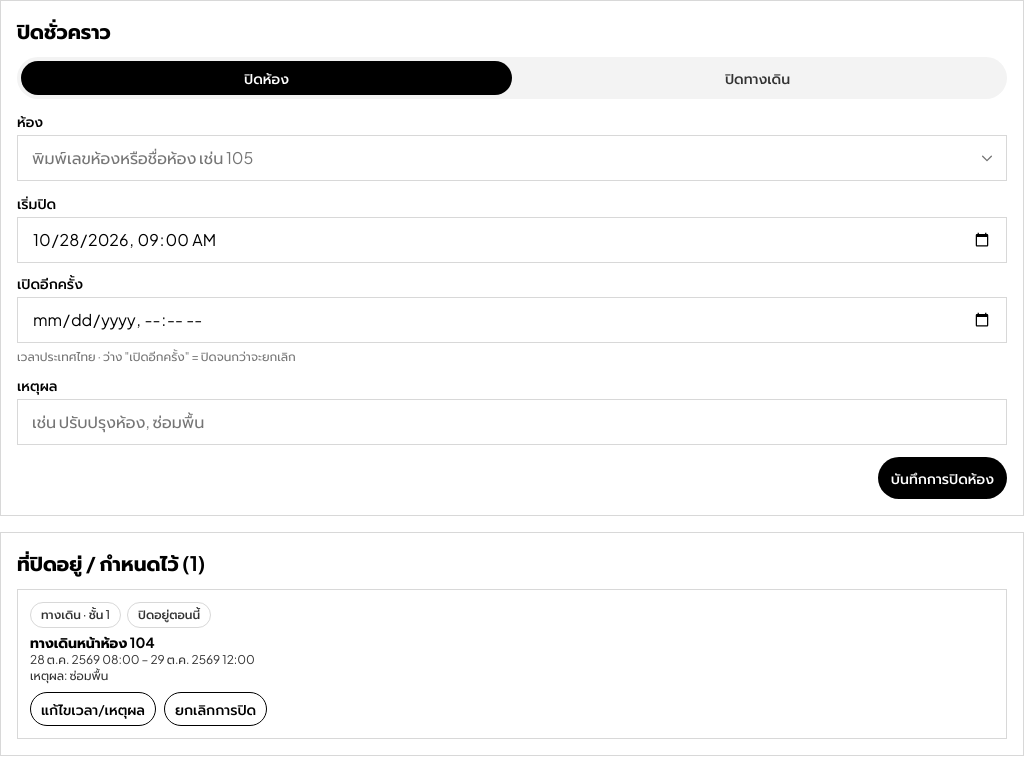
Test case: ClosurePanel › edits the window and reason of a listed closure in place
The image size is (1024, 768).
Click the button "แก้ไขเวลา/เหตุผล" at (93, 709), box [30,692,156,726]
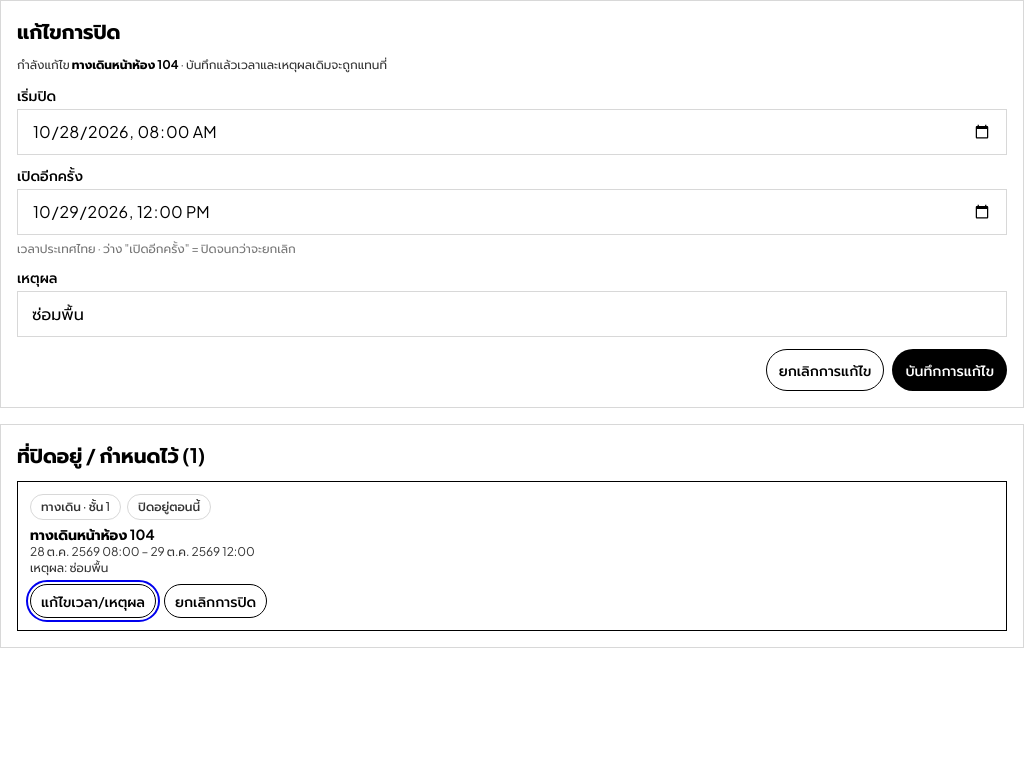
Result: the heading "แก้ไขการปิด" is shown at [17,18,120,43]
Result: the field labelled "เริ่มปิด" holds "2026-10-28T08:00" at [17,109,1007,155]
Result: the field labelled "เปิดอีกครั้ง" holds "2026-10-29T12:00"
Replace the text in the field labelled "เปิดอีกครั้ง" with "2026-10-30T18:00" at (512, 212), box [17,189,1007,235]
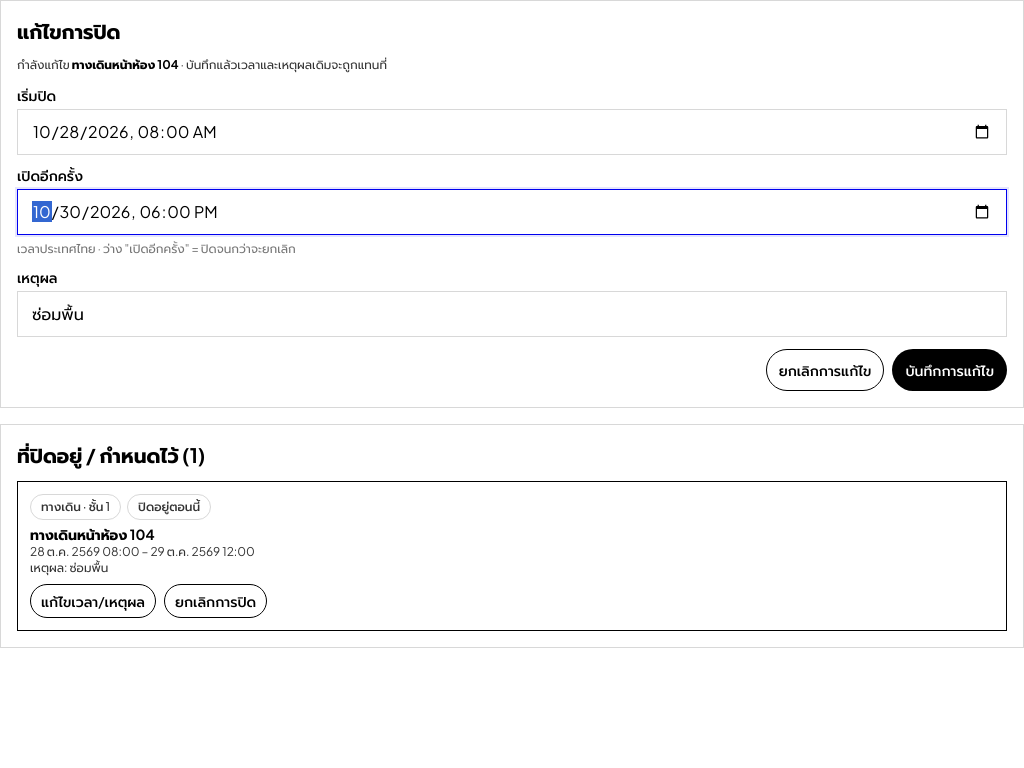
Replace the text in the field labelled "เหตุผล" with "ซ่อมพื้นเพิ่ม" at (512, 314), box [17,291,1007,337]
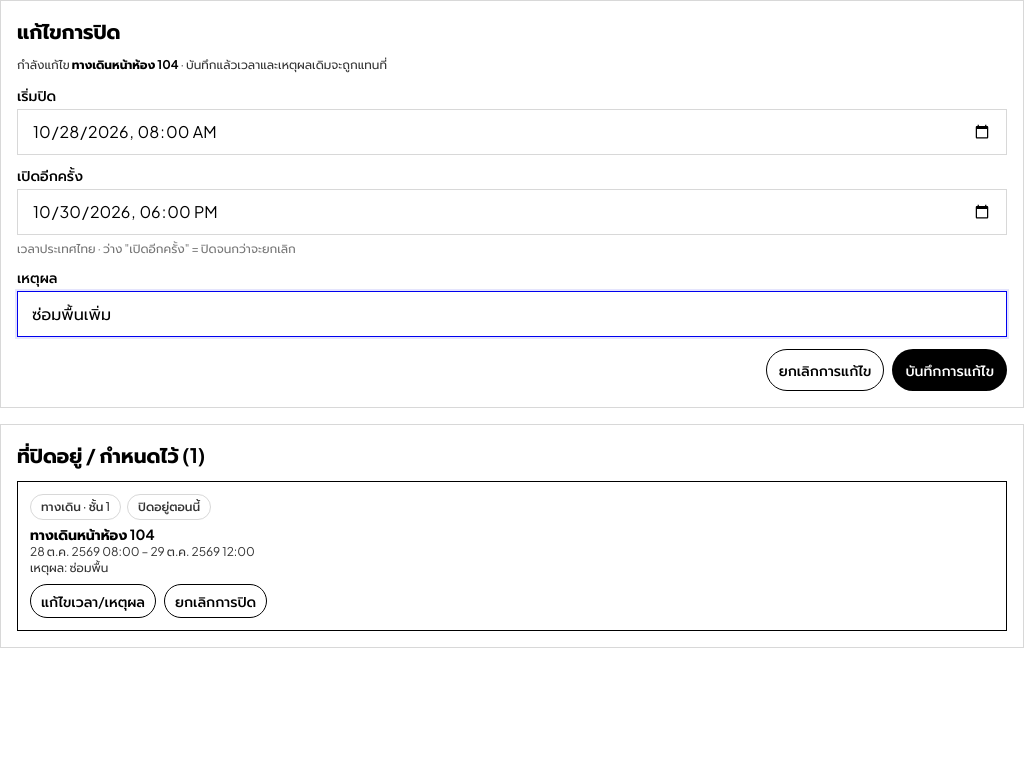
Click the button "บันทึกการแก้ไข" at (950, 370), box [892,349,1007,391]
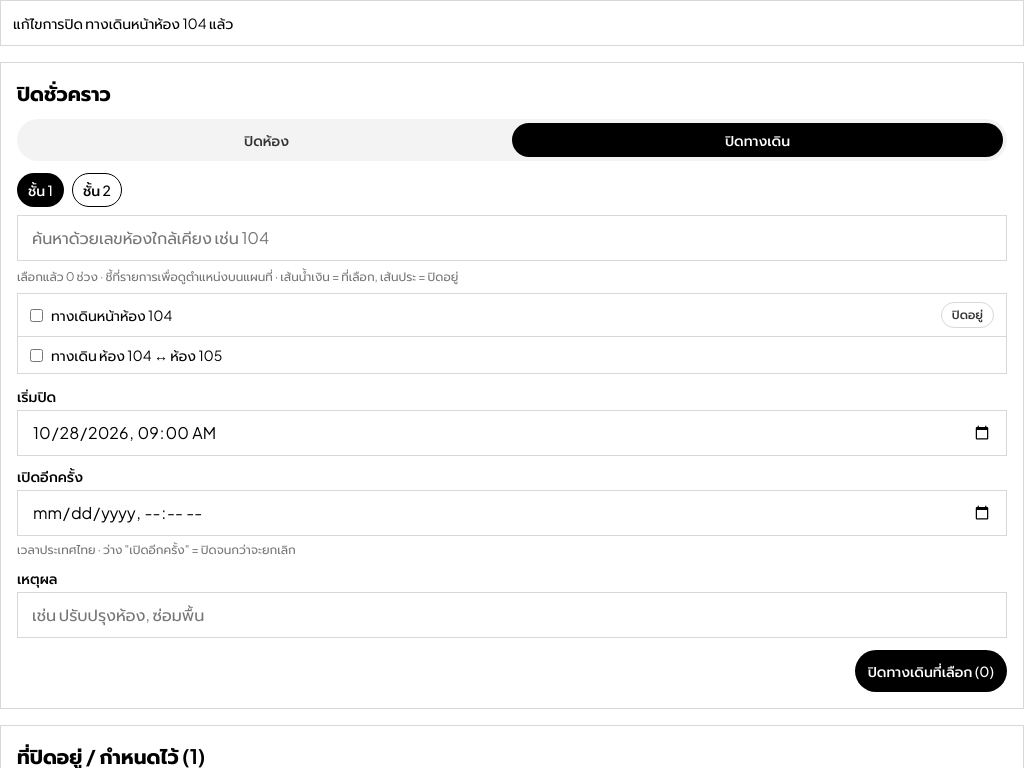
Result: the text "แก้ไขการปิด ทางเดินหน้าห้อง 104 แล้ว" is shown at [0,0,1023,46]
Result: the heading "ปิดชั่วคราว" is shown at [17,80,111,105]
